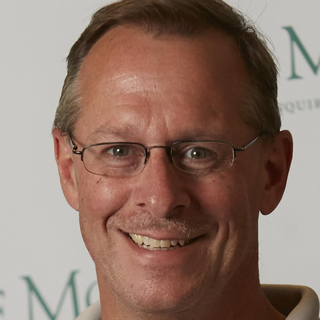eye: (172, 142, 222, 168), (100, 138, 140, 164)
